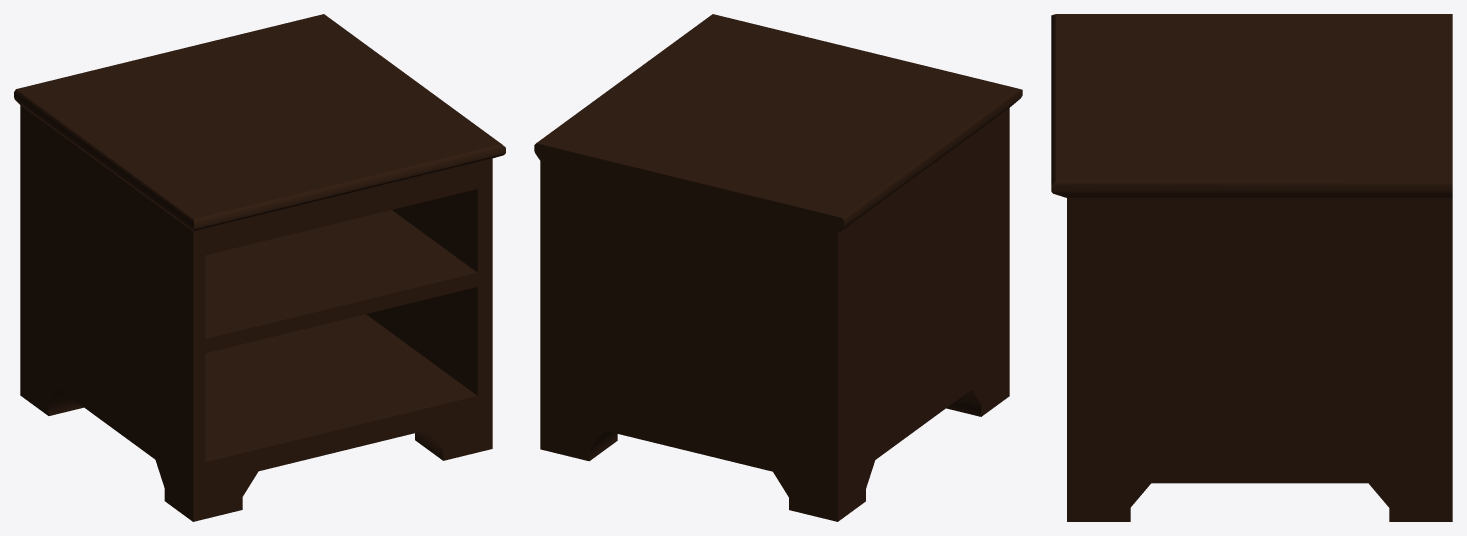
File: Shelf_Material.obj
3 views of the same model, side by side, from view 1: azimuth 30°, elevation 25°; view 2: azimuth 150°, elevation 25°; view 3: azimuth 270°, elevation 25° (orthographic). The views are drawn at different scales.
Parts seen in each view (by area): view 1: pCube6; view 2: pCube6; view 3: pCube6.
Part boxes in pixels (bbox=[...]): pCube6: bbox=[14, 14, 505, 521]; pCube6: bbox=[534, 14, 1022, 521]; pCube6: bbox=[1051, 14, 1452, 521].
Size of the model in its own units: 126 by 118 by 126.
